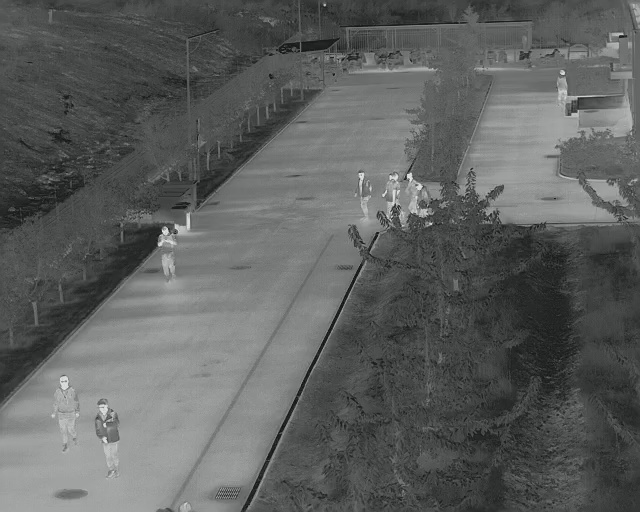person: (94, 398, 121, 478), (52, 375, 80, 452), (157, 225, 178, 283), (355, 170, 372, 221), (382, 172, 400, 210), (405, 171, 419, 213), (555, 70, 568, 104), (414, 182, 431, 205)
